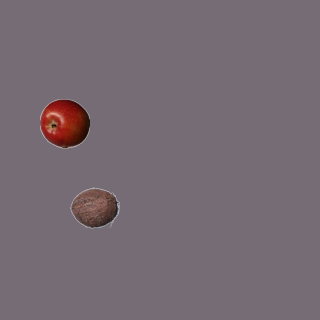Apple Braeburn: (39, 98, 89, 148)
Cocos: (69, 182, 119, 232)
